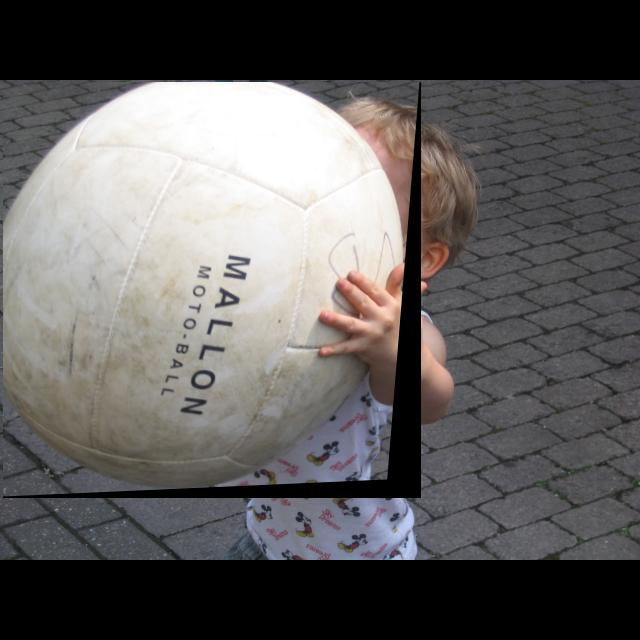Football: (3, 82, 421, 498)
